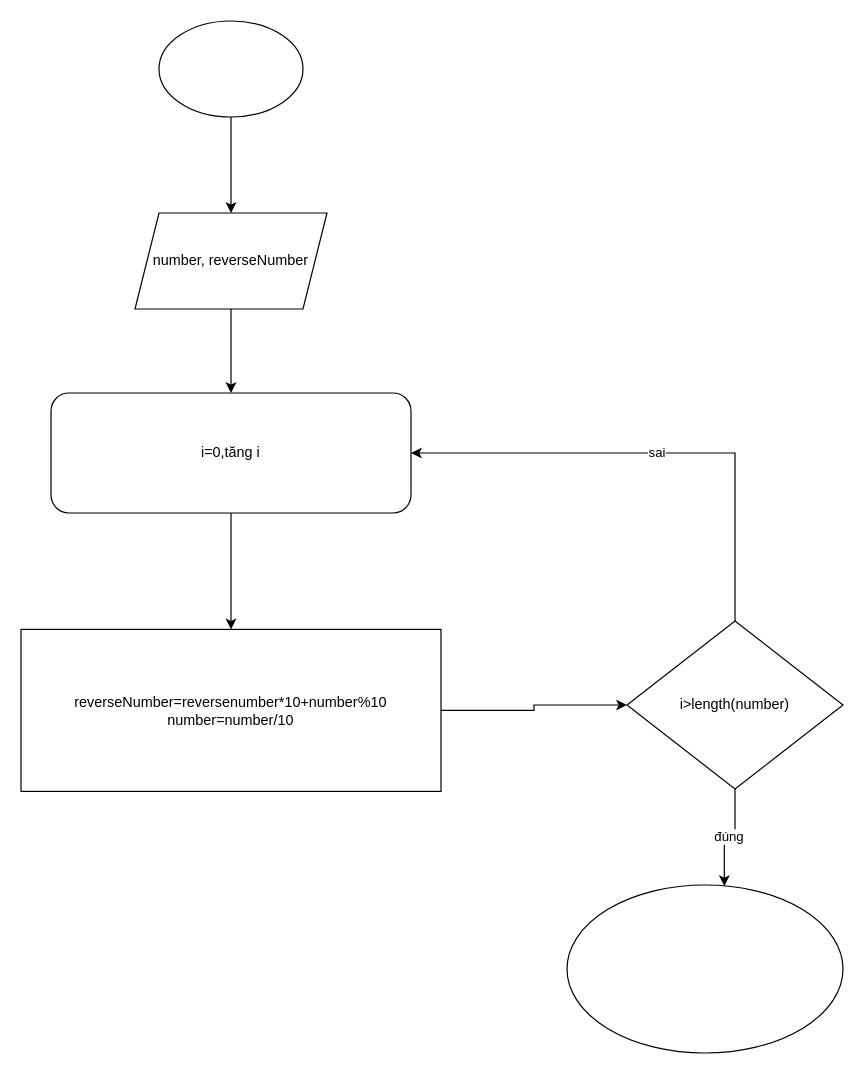
The diagram is 864 pixels wide and 1074 high, and some of its shapes have lost their labels. Here are the shapes that lost their labels. From the top down, the centre of each, then its label:
At point 230,68: "start".
At point 704,968: "in ra số cần tìm là 'reverseNumber' và kết thúc chương trình".
